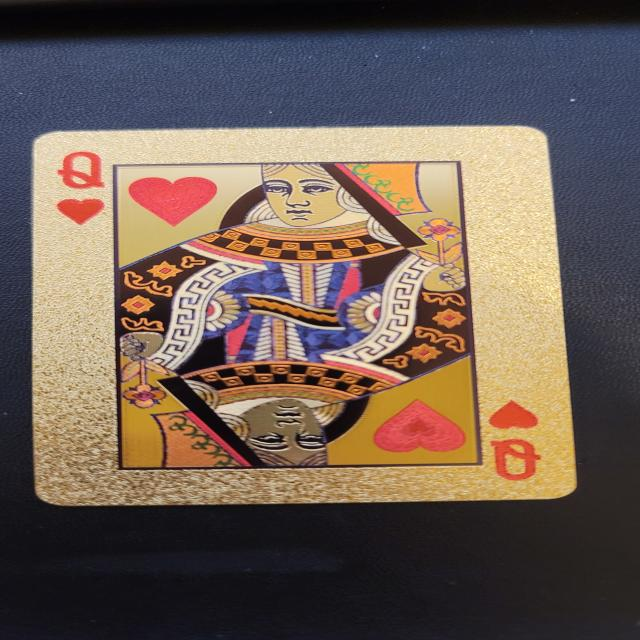Queen of hearts: (30, 126, 576, 507)
